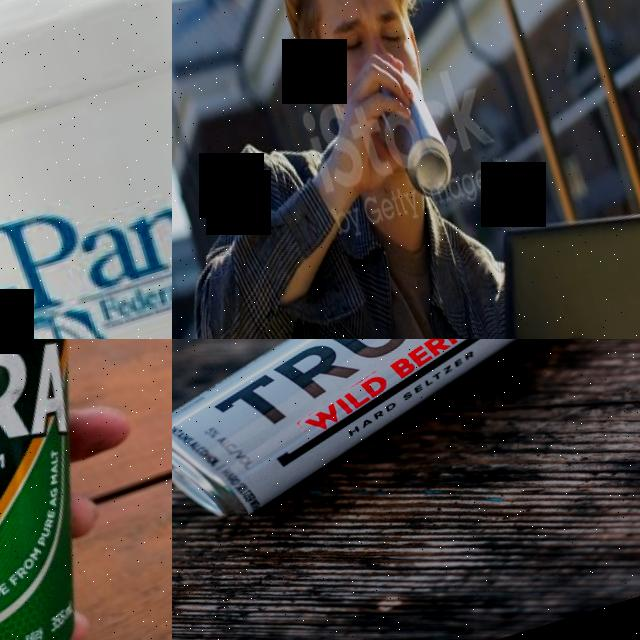can: (172, 339, 640, 537), (0, 339, 172, 640), (369, 57, 462, 207)
cup: (0, 0, 172, 339)
